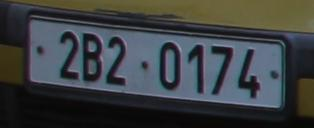.: (140, 58, 151, 72), (269, 68, 280, 81), (35, 44, 46, 56)
0: (158, 39, 182, 92)
1: (187, 42, 205, 95)
2: (58, 31, 82, 80), (107, 36, 129, 87)
4: (239, 48, 261, 100)
7: (209, 43, 233, 96)
B: (83, 31, 104, 84)
